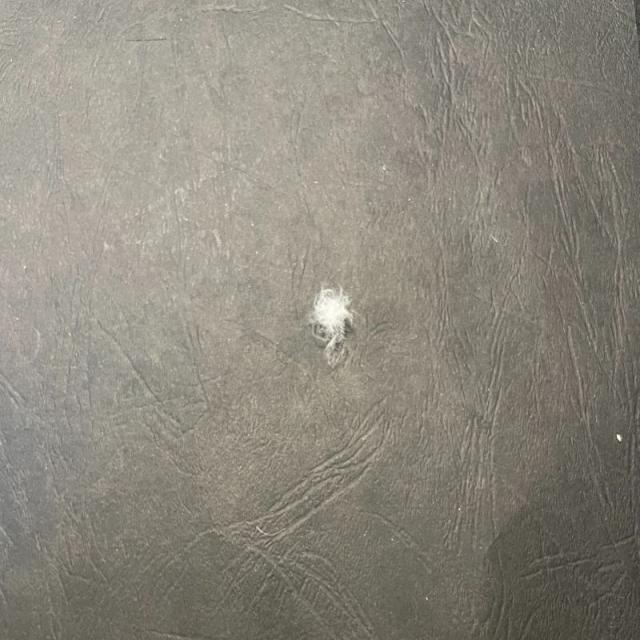feather: (305, 279, 360, 366)
